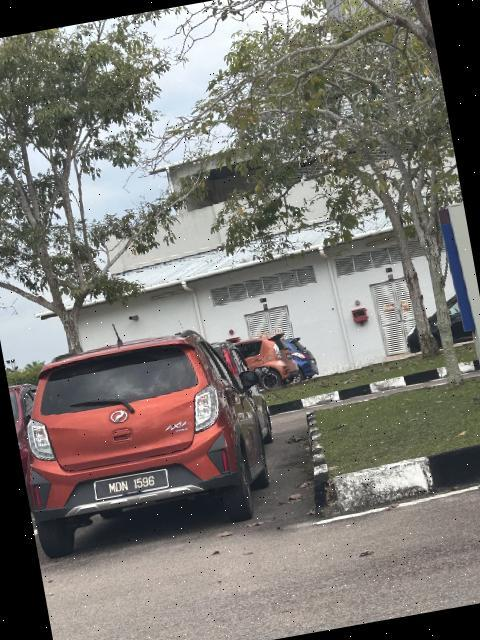License_Plate: (89, 468, 173, 501)
MDN1596: (89, 468, 173, 501)
car: (12, 326, 276, 561)
